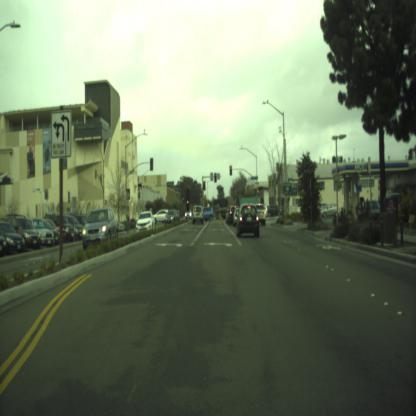Red: (230, 166, 232, 174), (256, 188, 258, 194)
RedLeft: (202, 180, 206, 190), (186, 199, 189, 210), (214, 172, 217, 182)
